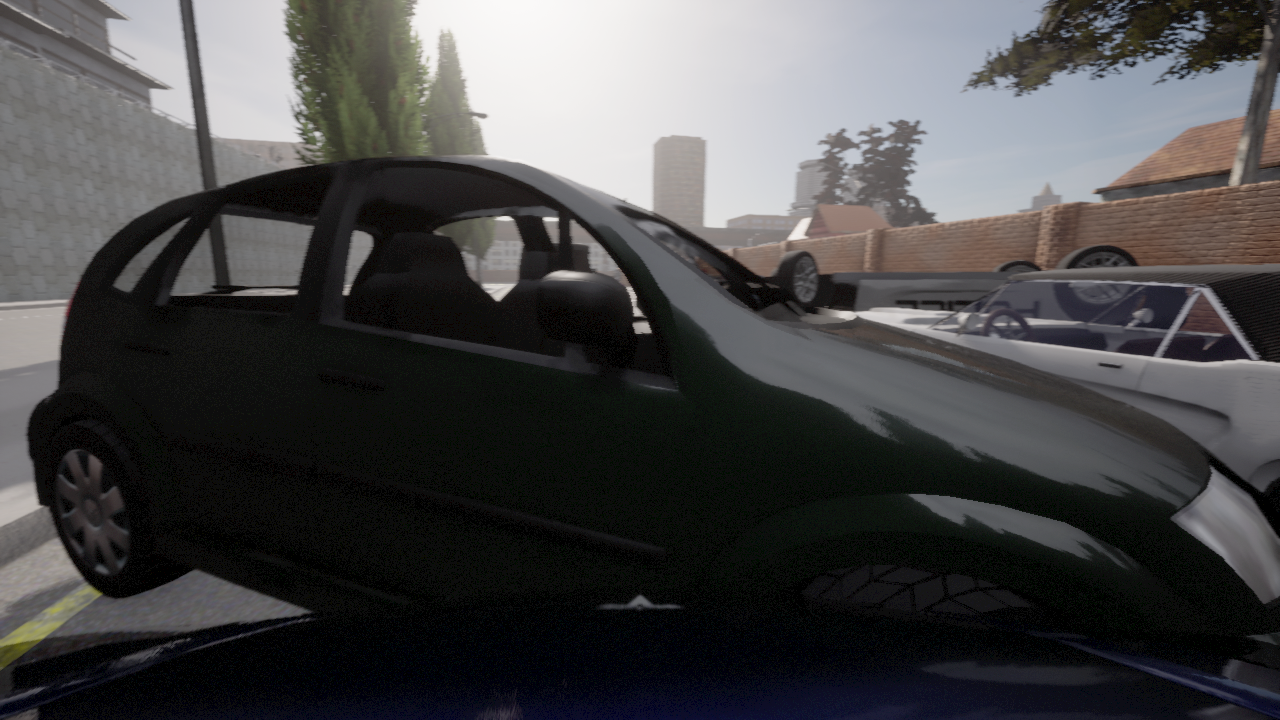cyclist: (26, 155, 1279, 644), (0, 588, 1279, 719), (847, 264, 1279, 513), (760, 245, 1138, 311)
